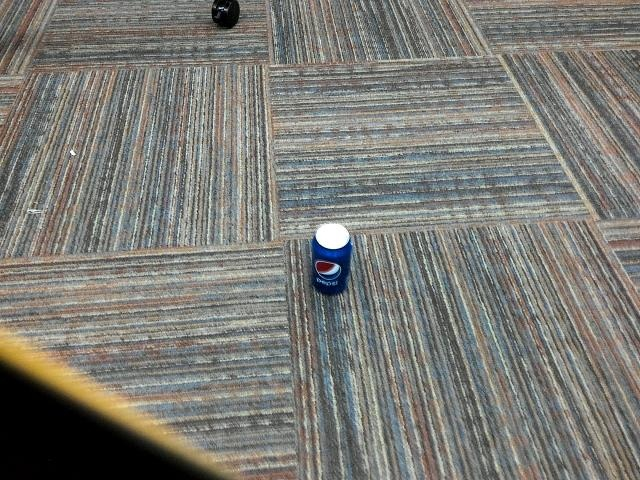can: (300, 215, 356, 301)
